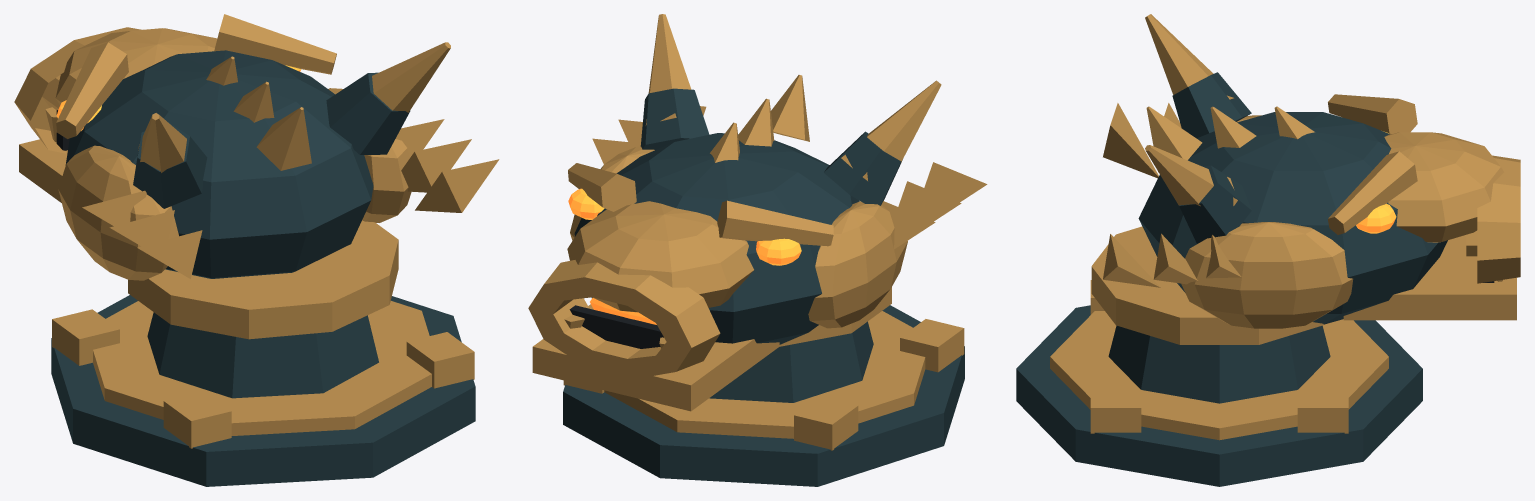
File: fire_tower.glb
The picture shows the model from 3 angles, left to right: view 1: azimuth 30°, elevation 25°; view 2: azimuth 150°, elevation 25°; view 3: azimuth 270°, elevation 25°; orthographic projection. The views are drawn at different scales.
Parts seen in each view (by area): view 1: BronzeDragonFireTower; view 2: BronzeDragonFireTower; view 3: BronzeDragonFireTower.
Part boxes in pixels (x1,y1,x2,y2): BronzeDragonFireTower: (14, 14, 499, 486); BronzeDragonFireTower: (528, 14, 987, 486); BronzeDragonFireTower: (1016, 14, 1520, 486).
Bounding box in the file's own units: 2.16 × 1.88 × 2.68.
